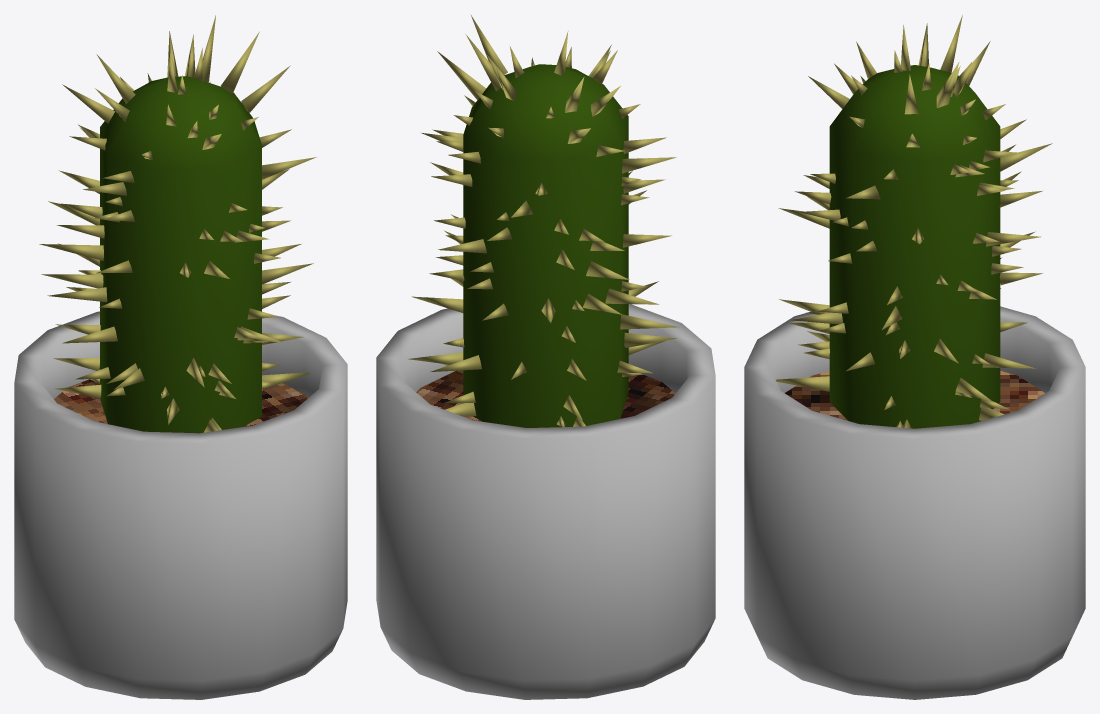
Rendered from cactus-s.glb.
3 views of the same model, side by side, from view 1: azimuth 30°, elevation 25°; view 2: azimuth 150°, elevation 25°; view 3: azimuth 270°, elevation 25° (orthographic).
Parts seen in each view (by area): view 1: __X_POT__Pot, Cylinder; view 2: __X_POT__Pot, Cylinder; view 3: __X_POT__Pot, Cylinder.
Boxes of the visible parts, box(x1,y1,x2,y2) form: __X_POT__Pot: box(14, 311, 347, 699); Cylinder: box(39, 15, 316, 433); __X_POT__Pot: box(376, 304, 715, 699); Cylinder: box(408, 14, 679, 427); __X_POT__Pot: box(744, 306, 1085, 699); Cylinder: box(776, 15, 1052, 428).
Bounding box in the file's own units: 0.09 × 0.1776 × 0.09.
Materials: 4 (1 with a texture image).
